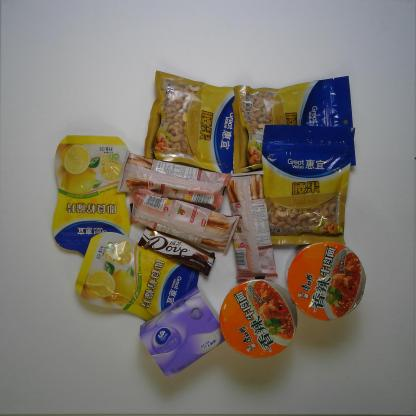Chocolate: (137, 226, 216, 276)
Dessert: (129, 188, 240, 256), (116, 150, 232, 212), (224, 170, 278, 282)
Dried Fruit: (232, 75, 357, 176), (74, 231, 200, 323), (144, 70, 254, 175), (261, 124, 355, 246), (51, 135, 132, 256)
Instant Noodles: (284, 240, 367, 321), (219, 278, 298, 359)
Tissue: (138, 285, 227, 379)
